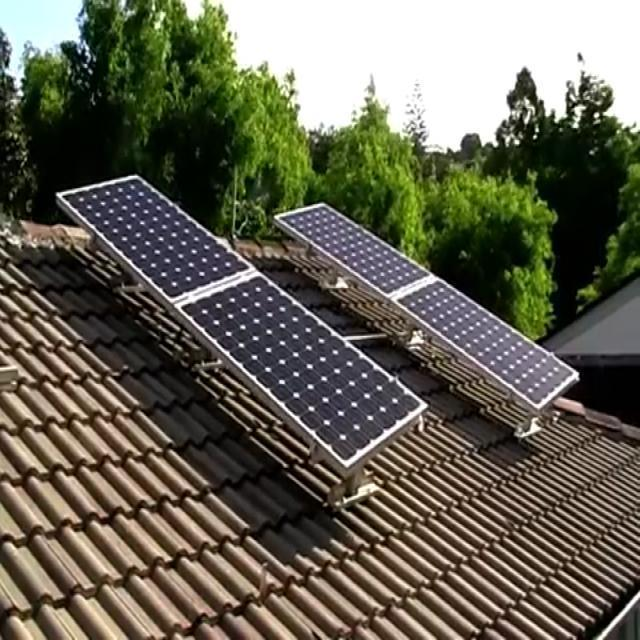Normal Solar Panel: (57, 176, 426, 479), (279, 204, 572, 408)
